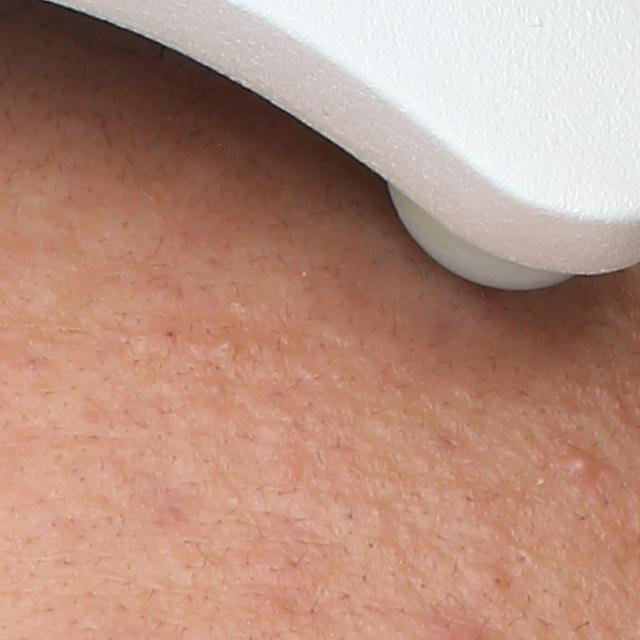comedo: (213, 334, 241, 359), (512, 549, 539, 568)
